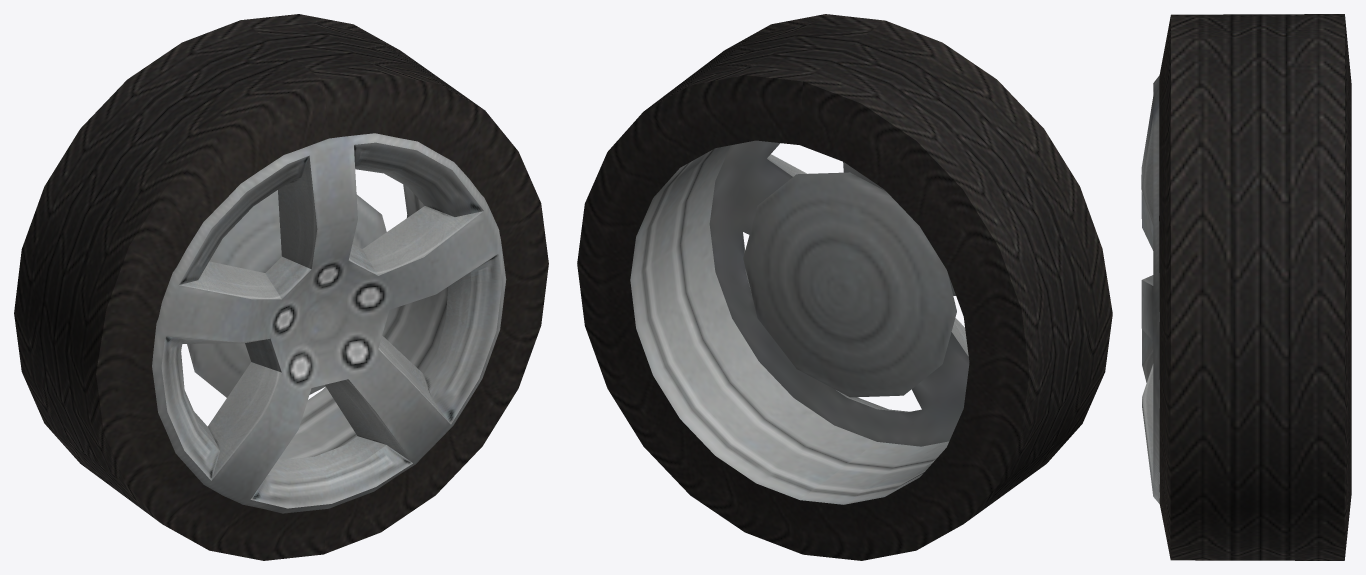
File: Car_Wheel.FBX
The picture shows the model from 3 angles, left to right: view 1: azimuth 30°, elevation 25°; view 2: azimuth 150°, elevation 25°; view 3: azimuth 270°, elevation 25°; orthographic projection. The views are drawn at different scales.
Parts seen in each view (by area): view 1: Car_Wheel; view 2: Car_Wheel; view 3: Car_Wheel.
Part boxes in pixels (<box>): Car_Wheel: <box>14,14,548,560</box>; Car_Wheel: <box>577,14,1112,560</box>; Car_Wheel: <box>1141,14,1351,560</box>.
Size of the model in its own units: 67.99 by 26 by 67.91.
1 material, 1 textured.
